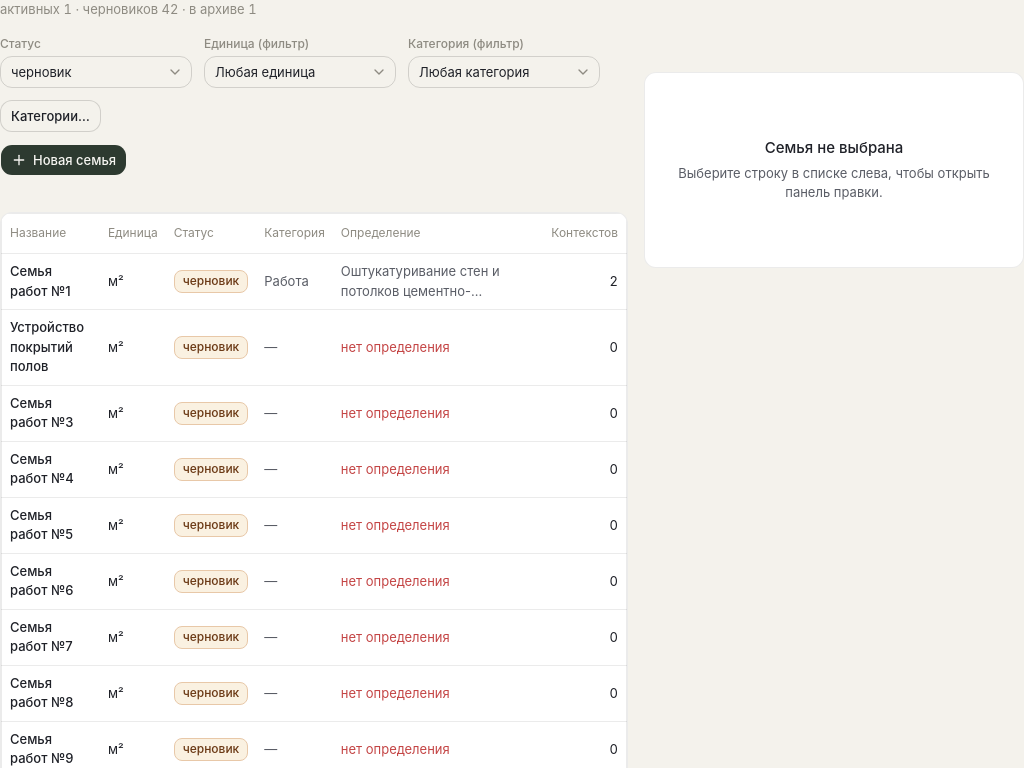
Test case: FamiliesTab — ожидание действий › «В архив»: после подтверждения окно закрыто, а кнопка в панели занята на время запроса
The image size is (1024, 768).
What coordinates should you click on to do the following:
click the text "Семья работ №3"
I would click on:
 (51, 413)
Its box is [2,385,100,441].
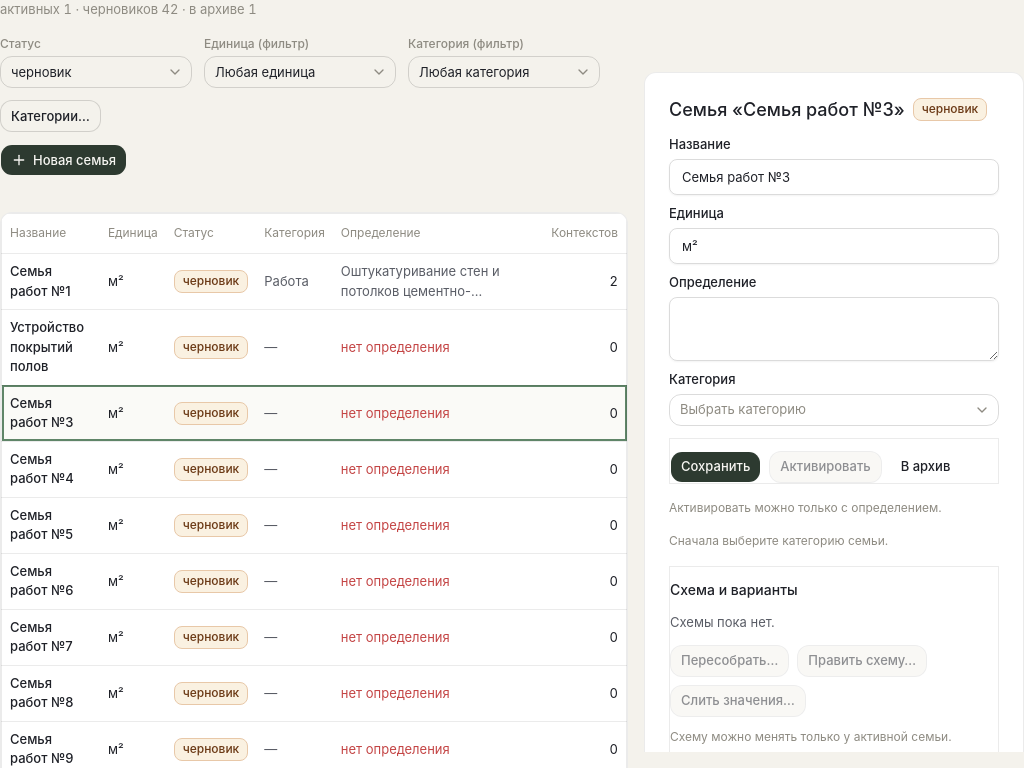
What coordinates should you click on to do the following:
click the button with aria-label "В архив: семья Семья работ №3"
I would click on:
 (926, 467)
Its box is [890,451,961,483].
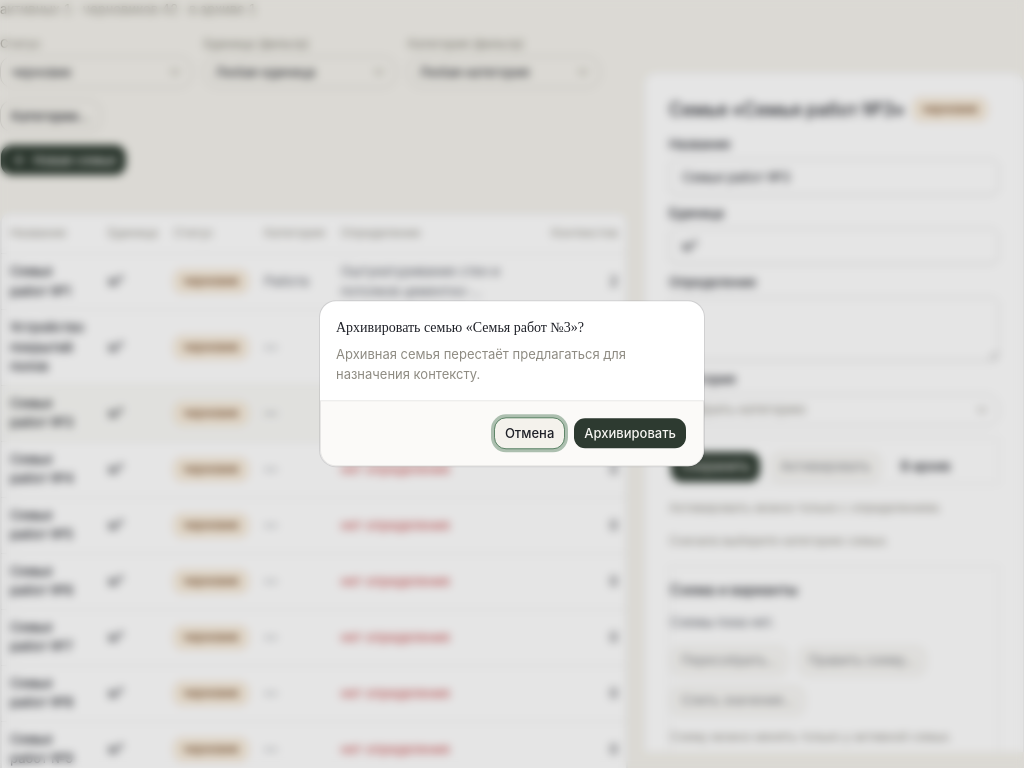
What coordinates should you click on to do the following:
click the button "Архивировать"
I would click on:
 (630, 434)
Its box is [573,418,687,450].
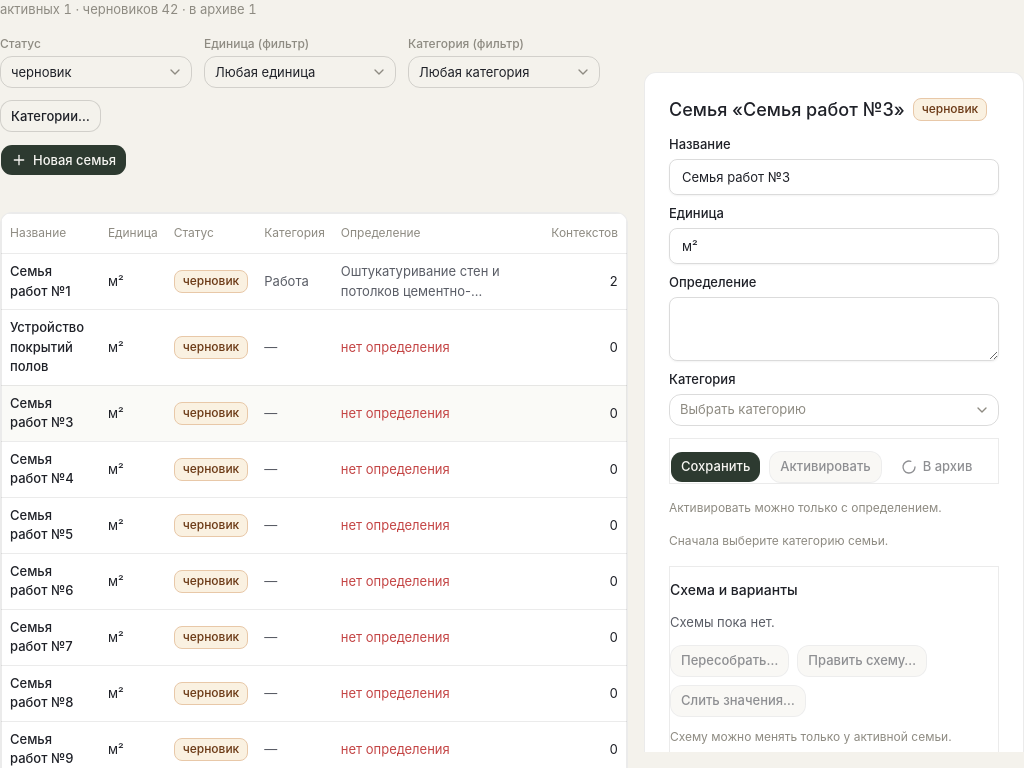
Result: the button with aria-label "В архив: семья Семья работ №3" is disabled at [890,451,983,483]
